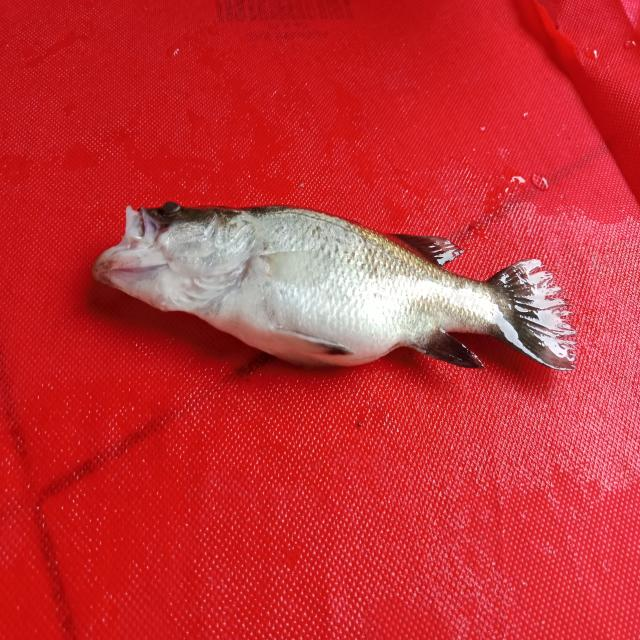ikan: (76, 170, 595, 400)
